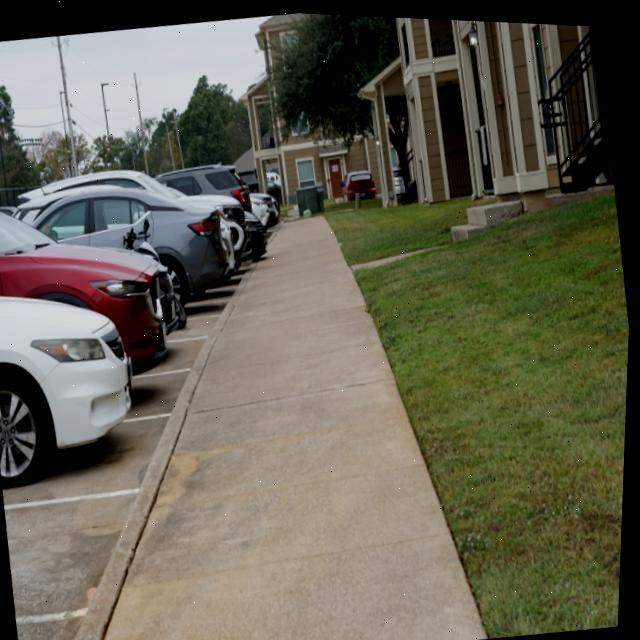Automobile: (0, 212, 179, 372), (29, 170, 236, 303), (0, 296, 135, 488), (182, 193, 258, 269), (159, 163, 253, 209), (48, 168, 186, 197), (246, 209, 269, 258), (344, 166, 378, 198), (251, 191, 271, 227)
Obstacle: (298, 184, 326, 213)
Road: (6, 277, 241, 640)
Sidewalk: (109, 215, 491, 640)
